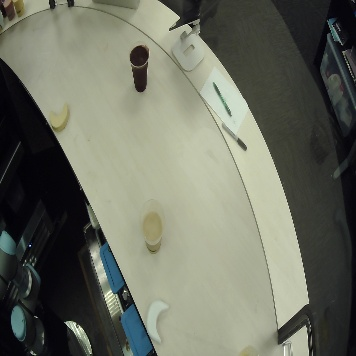full_cup: (138, 199, 165, 254), (127, 39, 151, 92), (1, 1, 14, 21), (12, 1, 26, 16)
puck: (145, 299, 170, 344), (49, 103, 70, 130)
